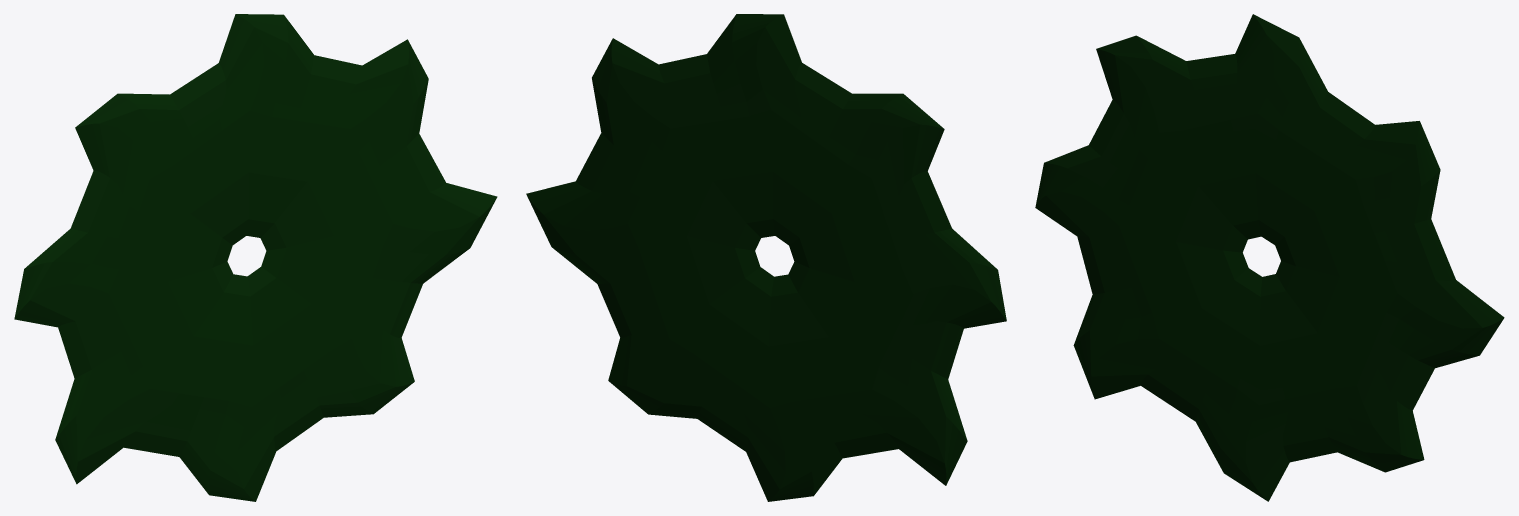
The model's file is SawBladeAni.fbx.
3 views of the same model, side by side, from view 1: azimuth 30°, elevation 25°; view 2: azimuth 150°, elevation 25°; view 3: azimuth 330°, elevation 25° (orthographic). The views are drawn at different scales.
Visible parts, largest first — view 1: pTorus2; view 2: pTorus2; view 3: pTorus2.
Part boxes in pixels (x1,y1,x2,y2): pTorus2: [14, 14, 497, 501]; pTorus2: [526, 14, 1006, 501]; pTorus2: [1035, 14, 1504, 501].
Size of the model in its own units: 15.08 by 14.72 by 0.4298.
